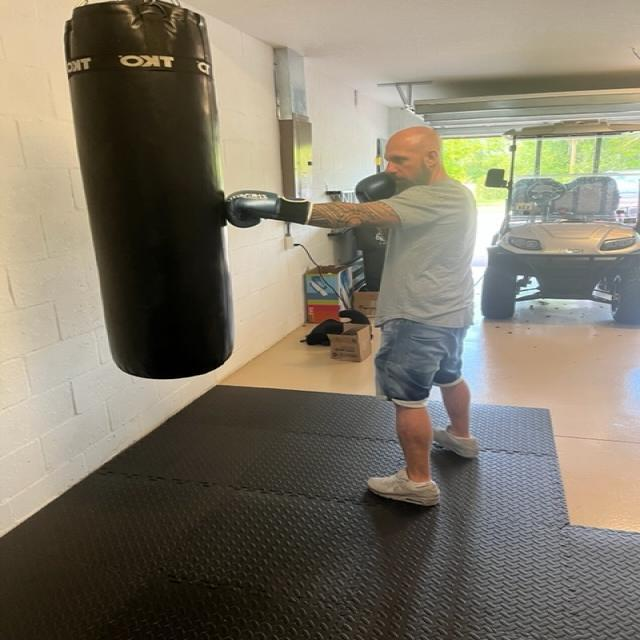jab: (202, 114, 484, 262)
